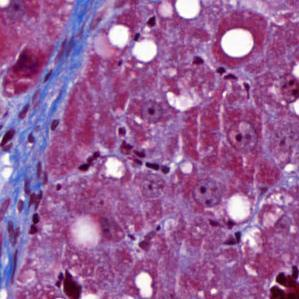inflammation: (122, 141, 171, 176), (264, 262, 299, 299), (54, 265, 84, 299), (74, 147, 105, 174)
